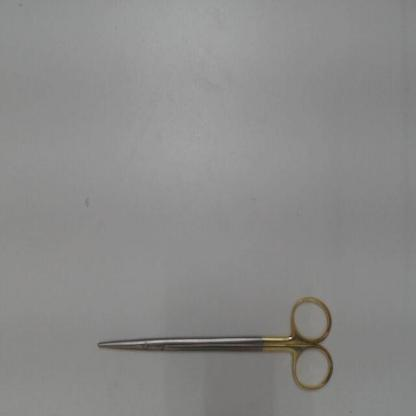7 Metzenbaum Scissors: (97, 290, 339, 395)
